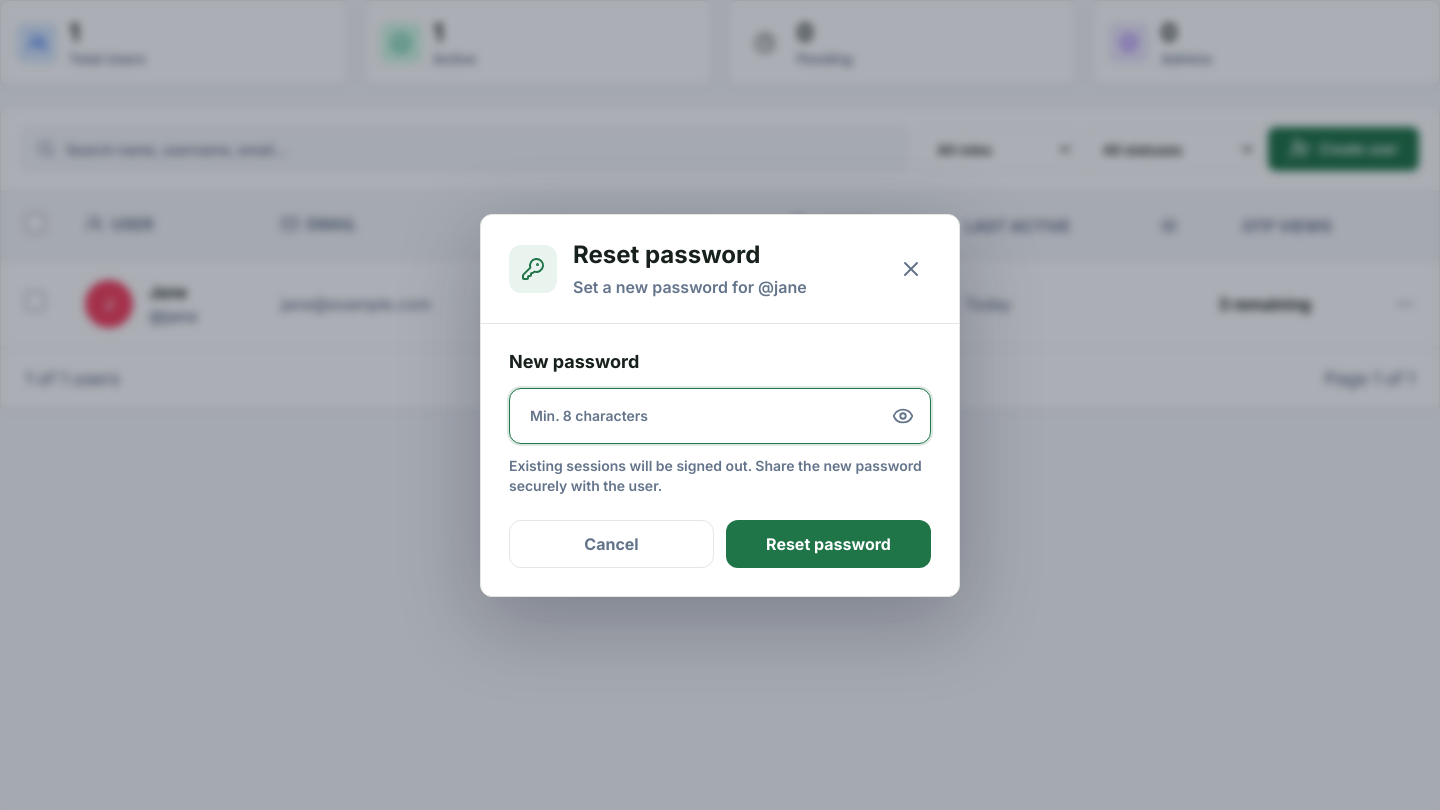
Test: admin workflows › keeps a reset password after an API error and describes the current lifecycle
Earlier steps of the test are not shown.
Type "replacement123" into the password field labelled "New password" at (720, 416), box [509,388,931,444]
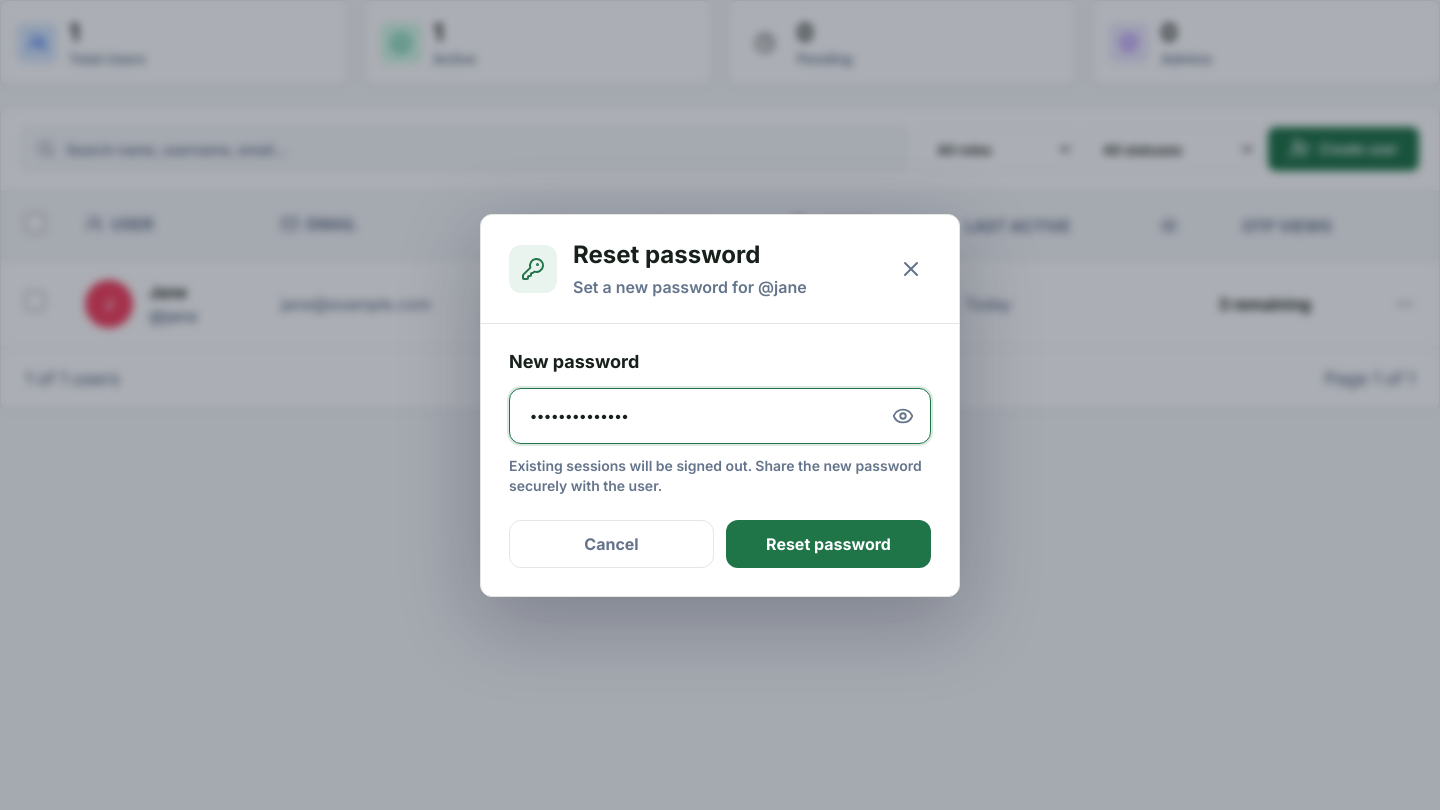
Click the button "Reset password" at (828, 544), box [726,520,931,568]
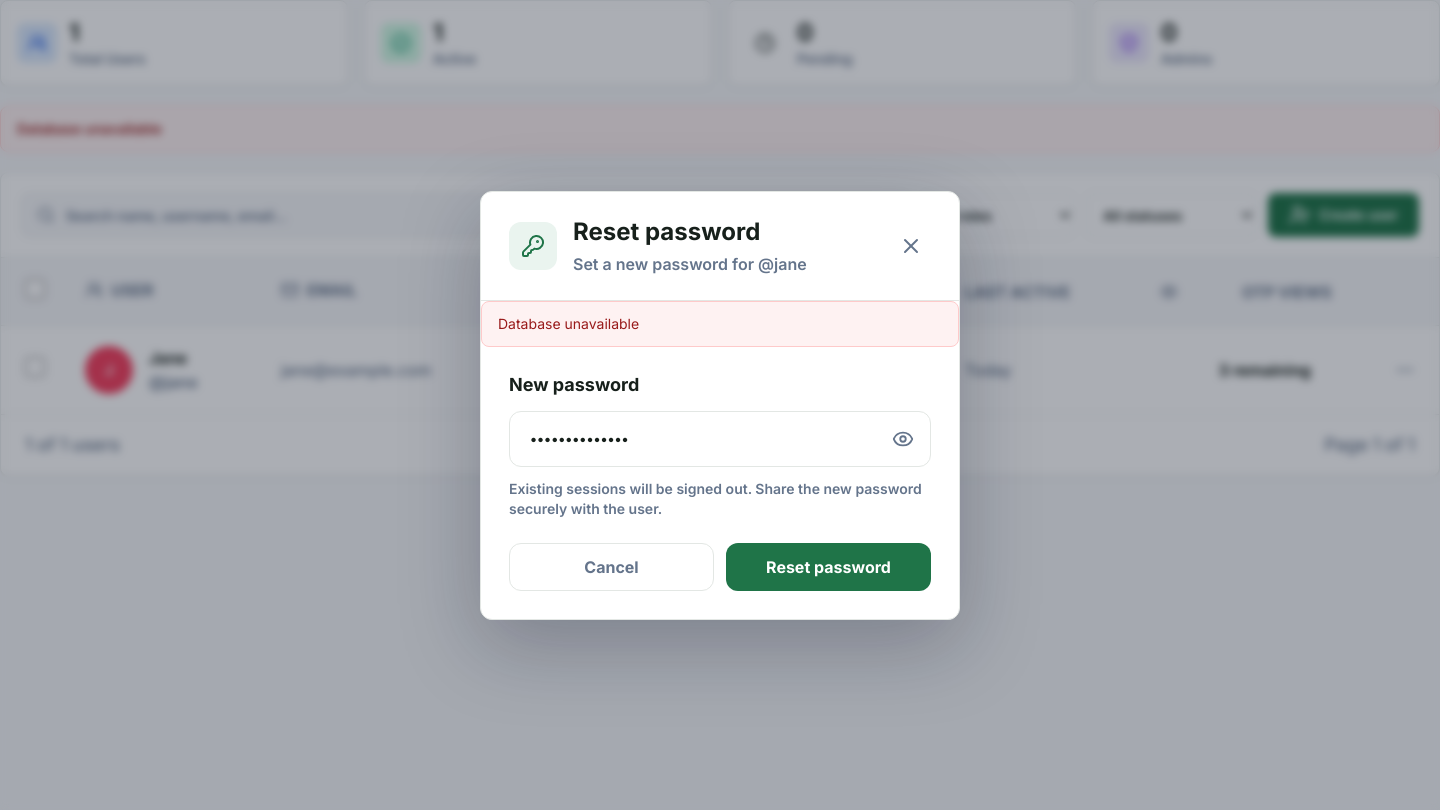
Result: the message reads "Database unavailable" at [498,314,639,332]
